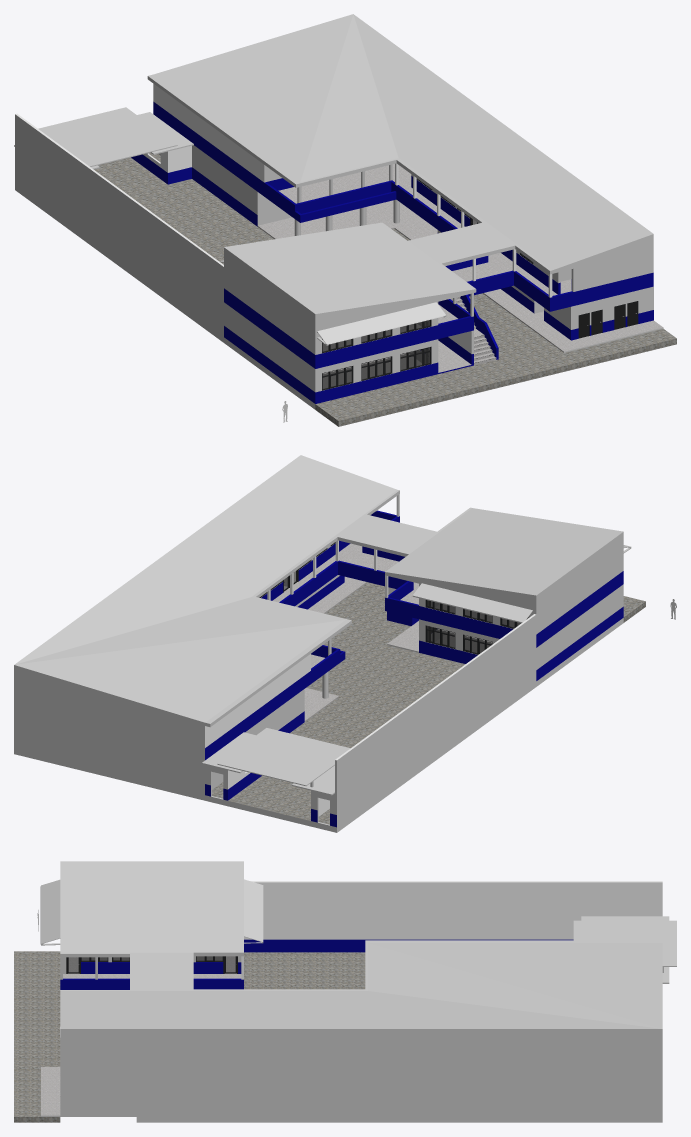
The model's file is kampus_Dago.fbx.
3 views of the same model, one above another, from view 1: azimuth 30°, elevation 25°; view 2: azimuth 150°, elevation 25°; view 3: azimuth 270°, elevation 25° (orthographic). The views are drawn at different scales.
Visible parts, largest first — view 1: Group9, Group40, Group2; view 2: Group9, Group40, Group2; view 3: Group9, Group40, Group2.
Part boxes in pixels (box(x1,y1,x2,y2)): Group9: box(14, 14, 653, 345); Group40: box(15, 113, 676, 426); Group2: box(153, 84, 653, 368); Group9: box(14, 455, 631, 795); Group40: box(14, 575, 645, 832); Group2: box(14, 494, 623, 761); Group9: box(40, 861, 676, 1044); Group40: box(14, 881, 662, 1122); Group2: box(60, 956, 662, 1081).
Size of the model in its own units: 34.28 by 8.2 by 51.29.
